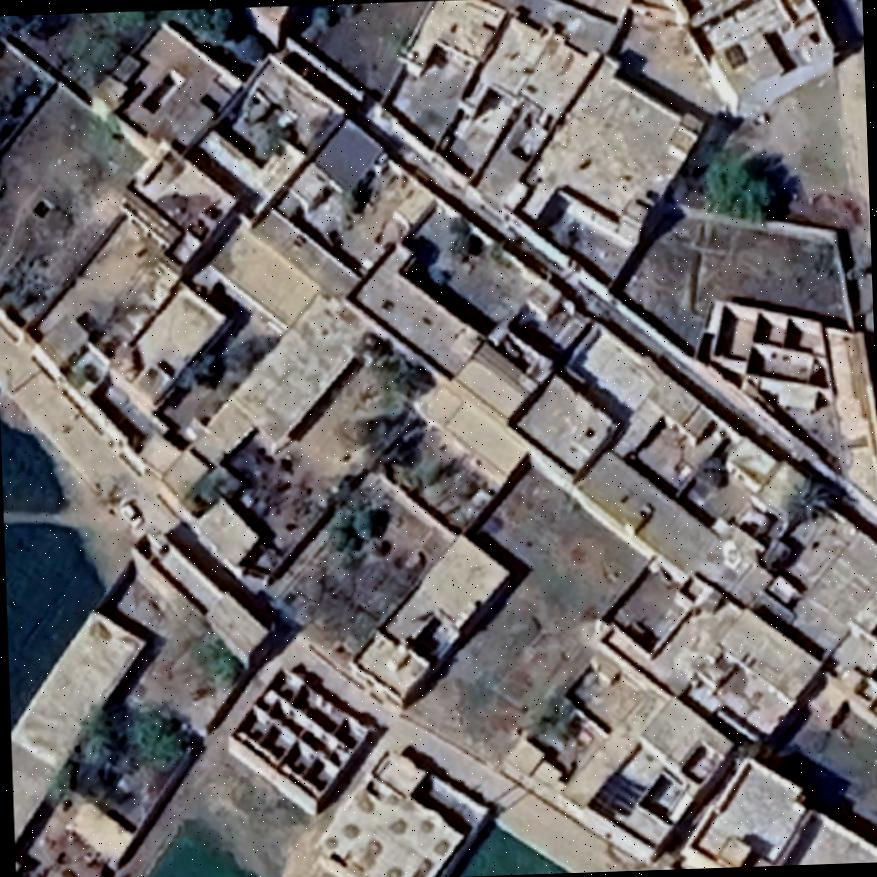Solarpanel: (591, 770, 649, 818)
